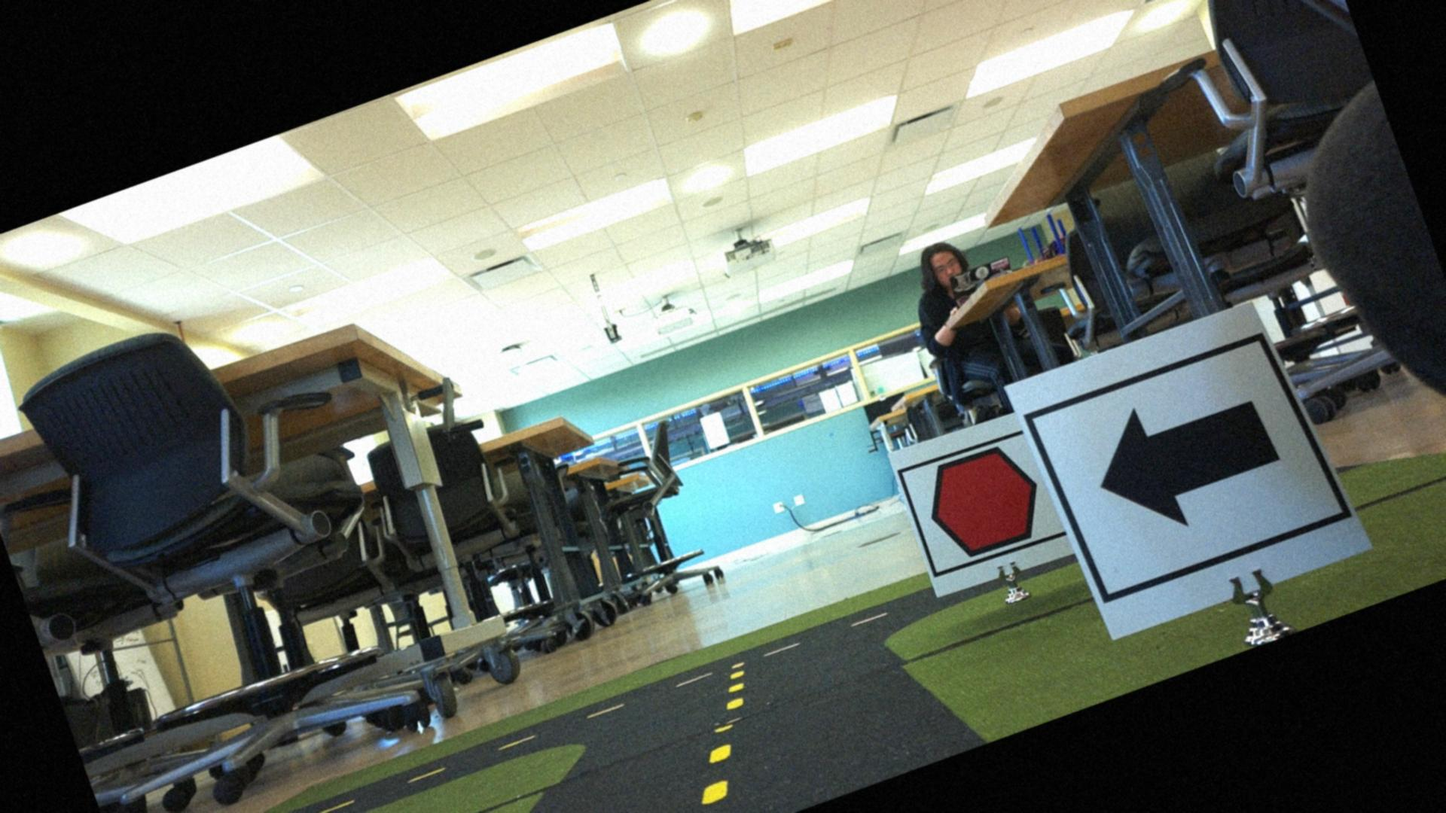stop: (907, 429, 1063, 577)
turnright: (1040, 336, 1332, 606)
yellowline: (667, 740, 758, 812), (714, 667, 754, 714)
